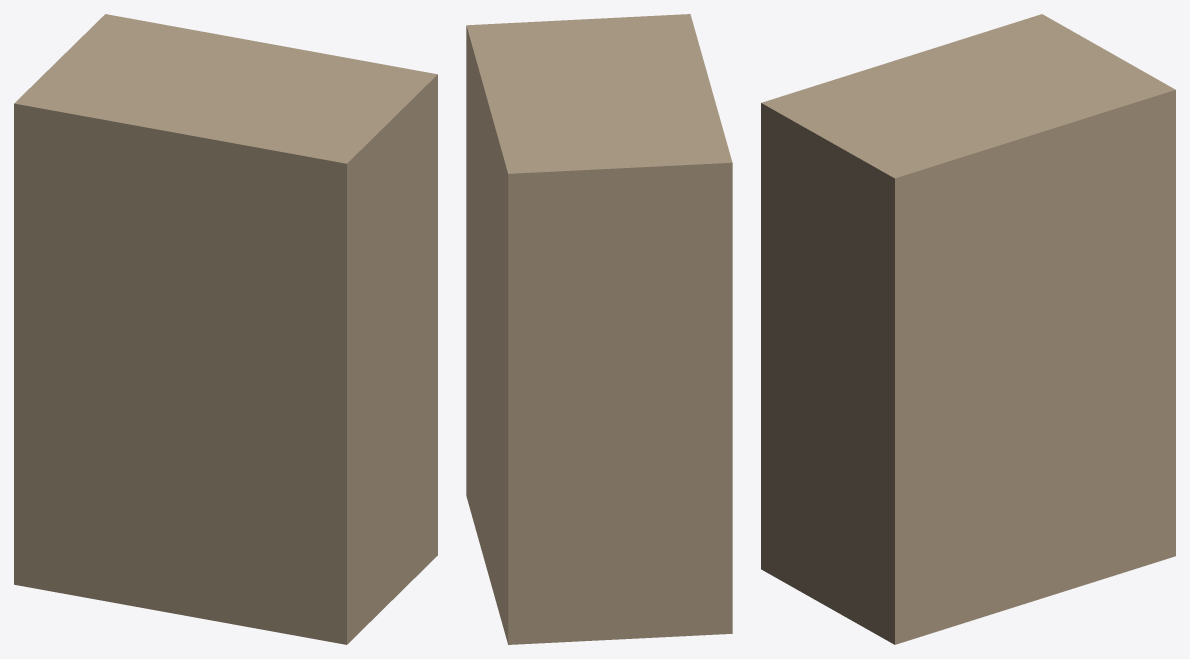
The model's file is bld_393483718.dae.
3 views of the same model, side by side, from view 1: azimuth 30°, elevation 25°; view 2: azimuth 150°, elevation 25°; view 3: azimuth 270°, elevation 25° (orthographic). The views are drawn at different scales.
Parts seen in each view (by area): view 1: bld_393483718; view 2: bld_393483718; view 3: bld_393483718.
Boxes of the visible parts, bbox=[...] form: bld_393483718: bbox=[14, 14, 437, 644]; bld_393483718: bbox=[466, 14, 732, 644]; bld_393483718: bbox=[761, 14, 1175, 644].
Bounding box in the file's own units: 6.05 × 6.45 × 8.
